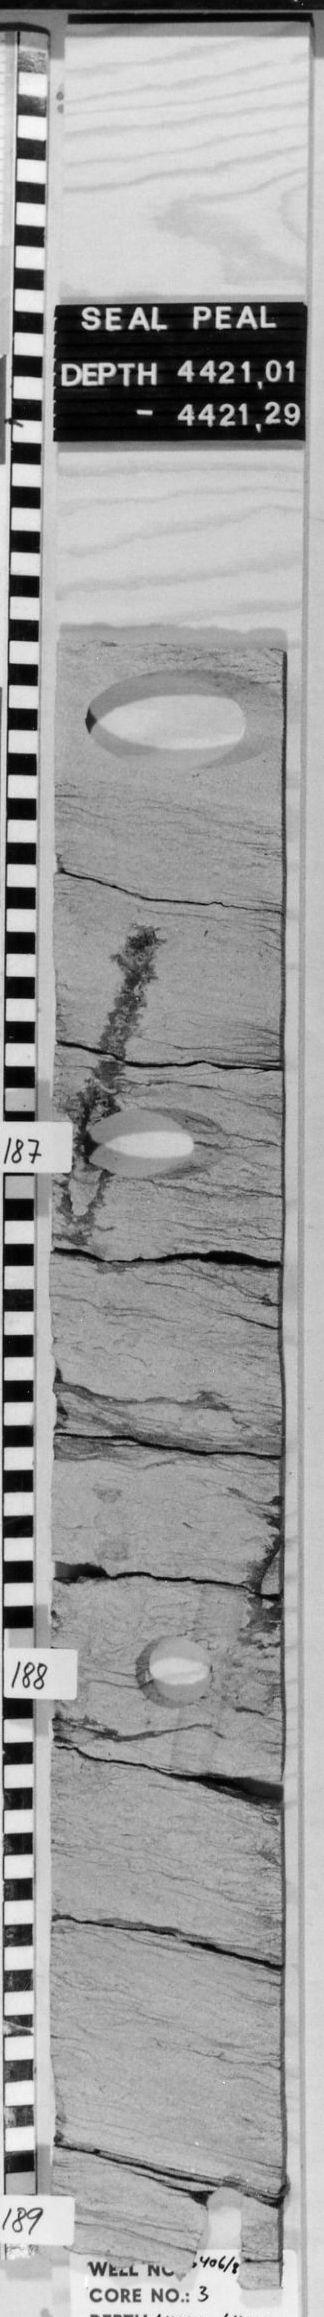hplug: (74, 1102, 232, 1190), (130, 1631, 223, 1713)
scal: (74, 663, 281, 771)
vplug: (170, 1575, 237, 1776), (179, 2172, 252, 2284)
